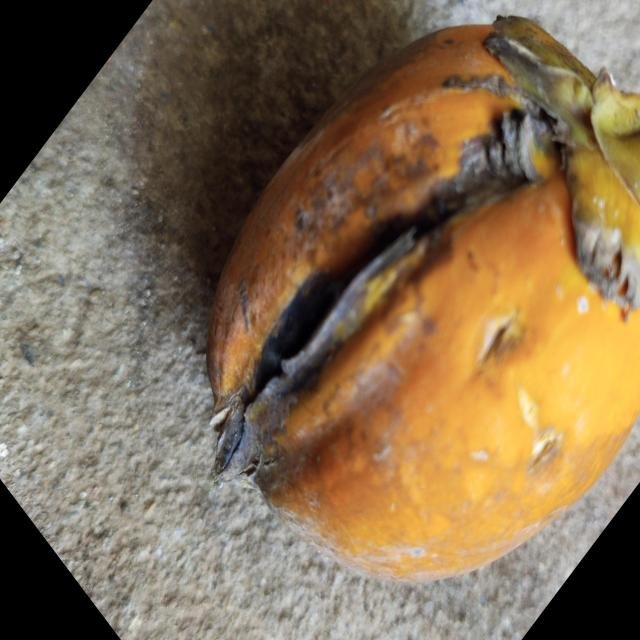damaged: (207, 17, 640, 579)
